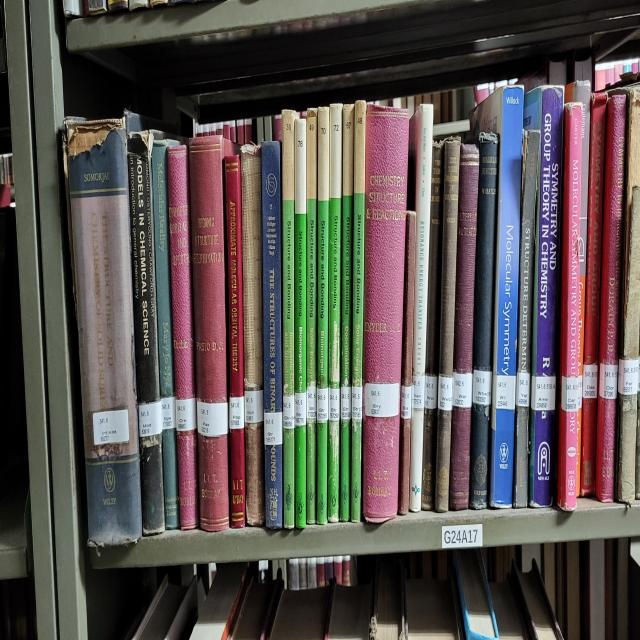Book: (68, 122, 141, 547), (471, 84, 524, 509), (362, 106, 409, 522), (524, 87, 564, 506), (189, 135, 230, 530), (128, 130, 165, 536), (595, 97, 626, 501), (168, 146, 199, 530), (151, 141, 180, 528), (580, 95, 608, 495), (470, 133, 499, 509), (450, 143, 479, 509), (512, 130, 540, 509), (408, 106, 434, 511), (558, 103, 582, 511), (240, 143, 265, 528), (435, 141, 461, 511), (261, 141, 284, 528), (421, 141, 445, 511), (225, 157, 246, 528), (351, 100, 366, 522), (281, 111, 296, 528), (316, 106, 330, 525), (328, 106, 342, 522), (340, 106, 354, 522), (294, 119, 308, 528), (306, 108, 318, 525), (401, 211, 416, 387), (285, 379, 294, 455)
Label: (92, 409, 129, 446), (365, 381, 400, 417), (196, 400, 229, 436), (139, 400, 162, 438), (531, 376, 555, 411), (495, 373, 516, 411), (452, 371, 472, 409), (175, 398, 196, 433), (472, 368, 491, 406), (599, 363, 618, 400), (244, 390, 264, 425), (264, 411, 282, 446), (561, 376, 578, 411), (582, 363, 598, 400), (229, 395, 245, 430), (161, 395, 176, 430), (424, 373, 438, 409), (316, 387, 329, 425), (438, 376, 452, 411), (516, 371, 530, 406), (411, 376, 425, 409), (282, 395, 295, 430), (400, 384, 412, 419), (295, 392, 306, 427), (329, 387, 340, 422), (340, 387, 351, 422), (351, 387, 362, 422), (306, 387, 316, 422)
